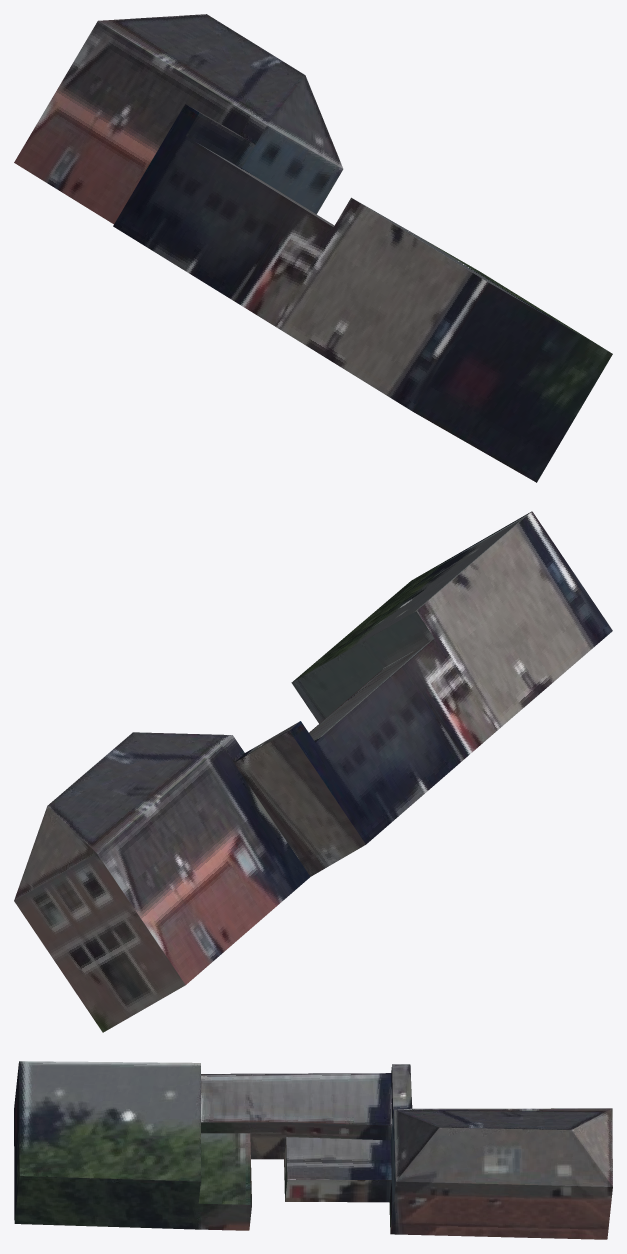
3 views of the same model, one above another, from view 1: azimuth 30°, elevation 25°; view 2: azimuth 150°, elevation 25°; view 3: azimuth 270°, elevation 25° (orthographic). The views are drawn at different scales.
Parts seen in each view (by area): view 1: BAG_0599100000687256 (×2); view 2: BAG_0599100000687256 (×2); view 3: BAG_0599100000687256 (×2).
Part boxes in pixels (<box>): BAG_0599100000687256 (×2): <box>14,14,612,482</box>; BAG_0599100000687256 (×2): <box>14,511,612,1032</box>; BAG_0599100000687256 (×2): <box>14,1061,612,1239</box>.
Size of the model in its own units: 13.94 by 14.1 by 45.15.
3 materials, 2 textured.
